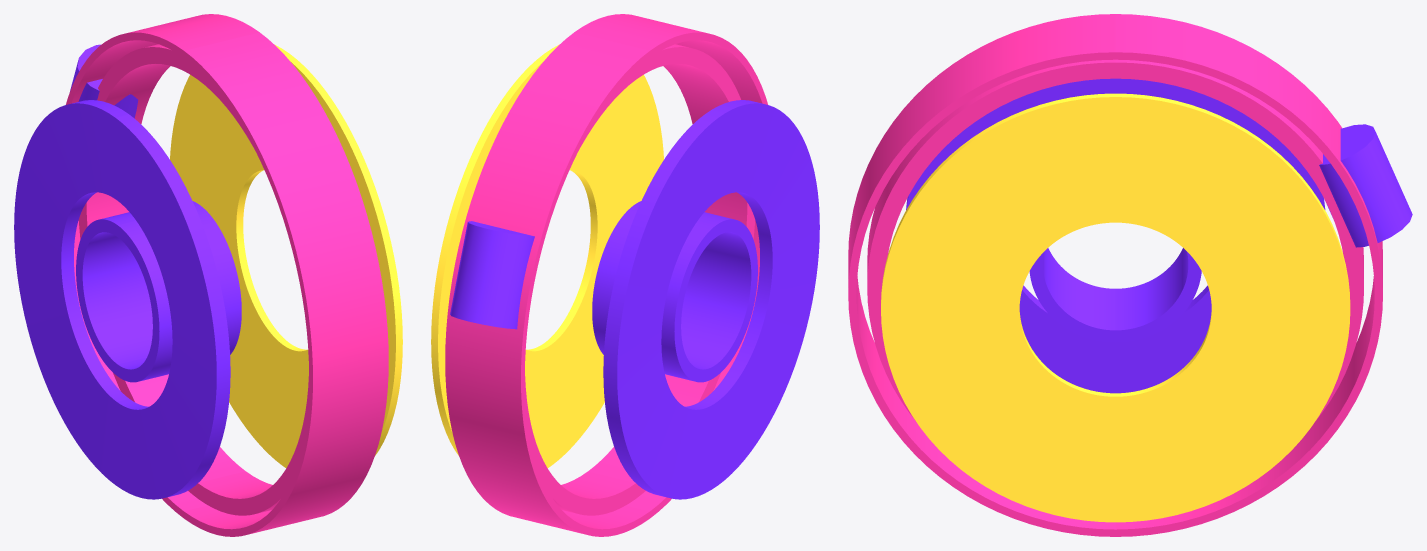
The model's file is slurry_pump_wear.glb.
3 renders of one model, left to right at view 1: azimuth 30°, elevation 25°; view 2: azimuth 150°, elevation 25°; view 3: azimuth 270°, elevation 25°, orthographic. The views are drawn at different scales.
Parts seen in each view (by area): view 1: wear_zones__front, wear_zones__back; view 2: wear_zones__back, wear_zones__front; view 3: wear_zones__back, wear_zones__front.
Boxes of the visible parts, x1,y1,x2,y2 form: wear_zones__front: (115, 32, 402, 536); wear_zones__back: (14, 14, 288, 518); wear_zones__back: (431, 32, 718, 536); wear_zones__front: (545, 14, 819, 518); wear_zones__back: (1115, 14, 1412, 536); wear_zones__front: (848, 14, 1115, 536).
Bounding box in the file's own units: 0.1518 × 0.3896 × 0.4112.
